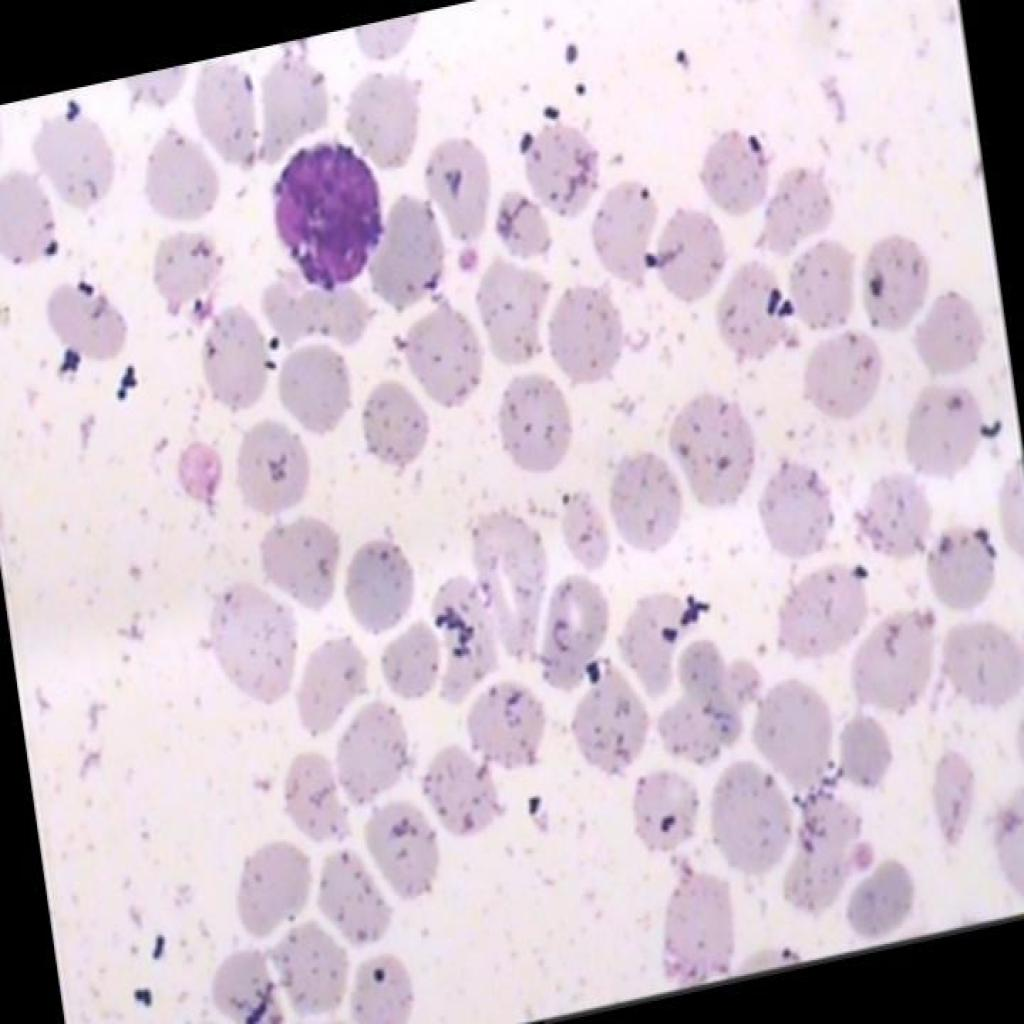Basofil: (257, 122, 394, 316)
Platelet: (178, 432, 230, 498), (451, 230, 485, 286)
